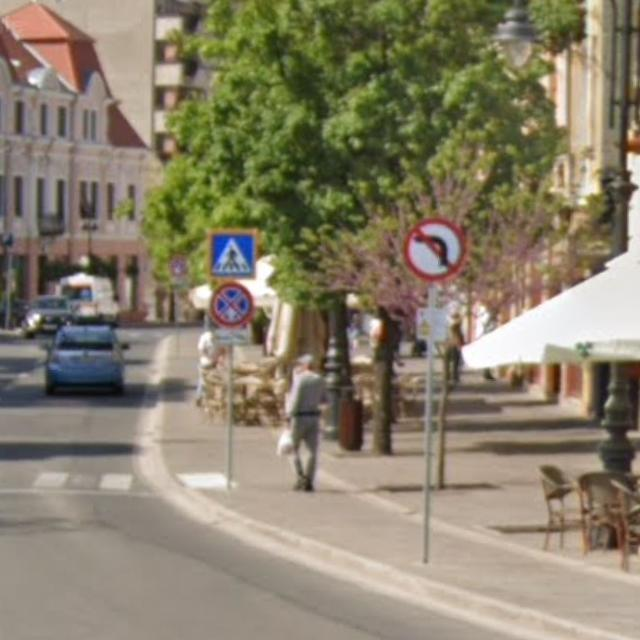forb_waiting: (209, 282, 255, 329)
info_crosswalk: (208, 228, 259, 281)
